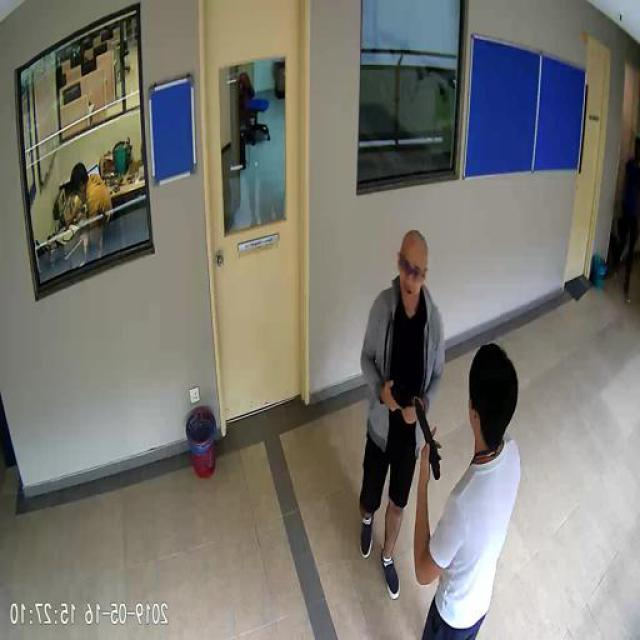Gun: (418, 399, 442, 479)
